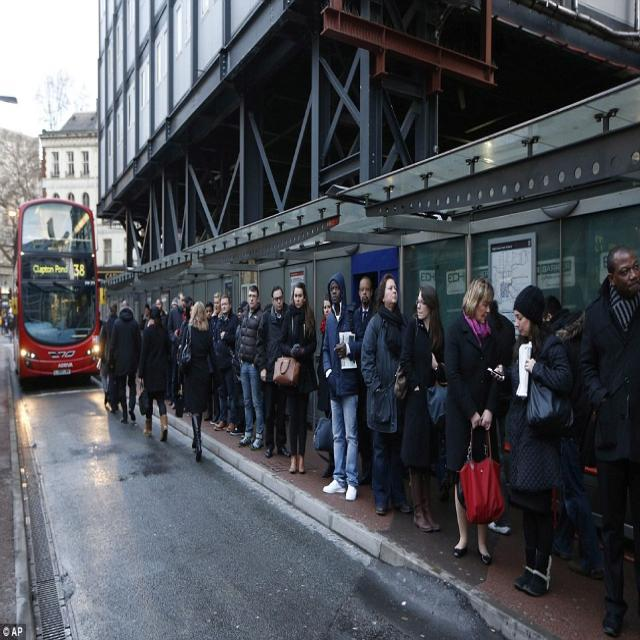body: (485, 281, 576, 597), (579, 243, 640, 639), (540, 292, 608, 582), (442, 276, 508, 567), (360, 272, 415, 517), (454, 275, 503, 538), (400, 284, 448, 535), (321, 271, 366, 504), (270, 280, 320, 476), (174, 298, 220, 464), (254, 284, 292, 460), (235, 284, 268, 452), (136, 304, 173, 444), (352, 275, 374, 485), (108, 299, 143, 425), (156, 292, 194, 408), (211, 292, 240, 434), (316, 292, 335, 478), (228, 299, 251, 440), (101, 299, 119, 412), (208, 291, 222, 424), (203, 300, 215, 422), (0, 303, 15, 337), (139, 301, 149, 329), (98, 309, 104, 338)
